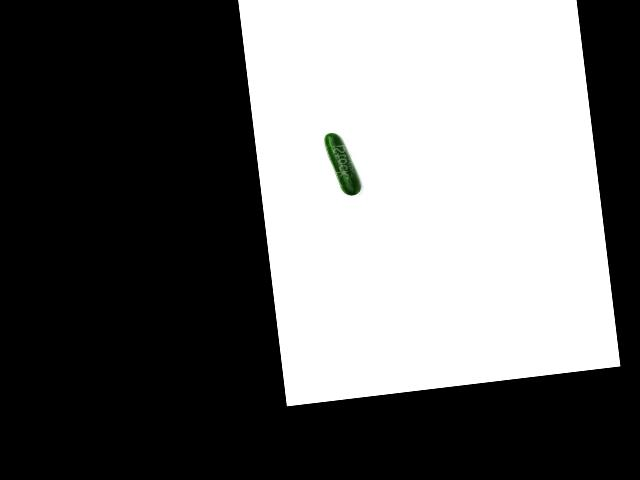cucumber: (323, 130, 361, 198)
